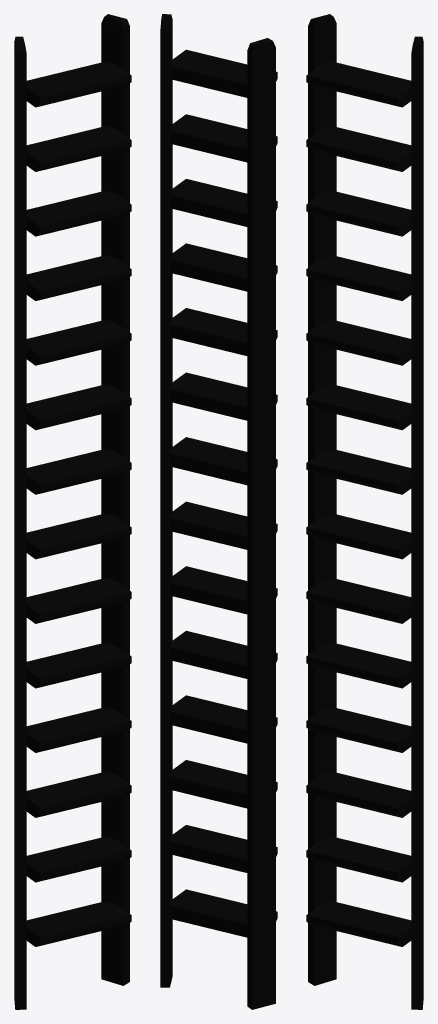
The model's file is space_SM_Prop_Ladder_01.gltf.
The picture shows the model from 3 angles, left to right: view 1: azimuth 30°, elevation 25°; view 2: azimuth 150°, elevation 25°; view 3: azimuth 330°, elevation 25°; orthographic projection.
Parts seen in each view (by area): view 1: SM_Prop_Ladder_01; view 2: SM_Prop_Ladder_01; view 3: SM_Prop_Ladder_01.
Part boxes in pixels (x1,y1,x2,y2): SM_Prop_Ladder_01: (14,14,131,1009); SM_Prop_Ladder_01: (160,14,277,1009); SM_Prop_Ladder_01: (306,14,423,1009).
Bounding box in the file's own units: 0.7552 × 6.06 × 0.2933.
1 material, 1 textured.
